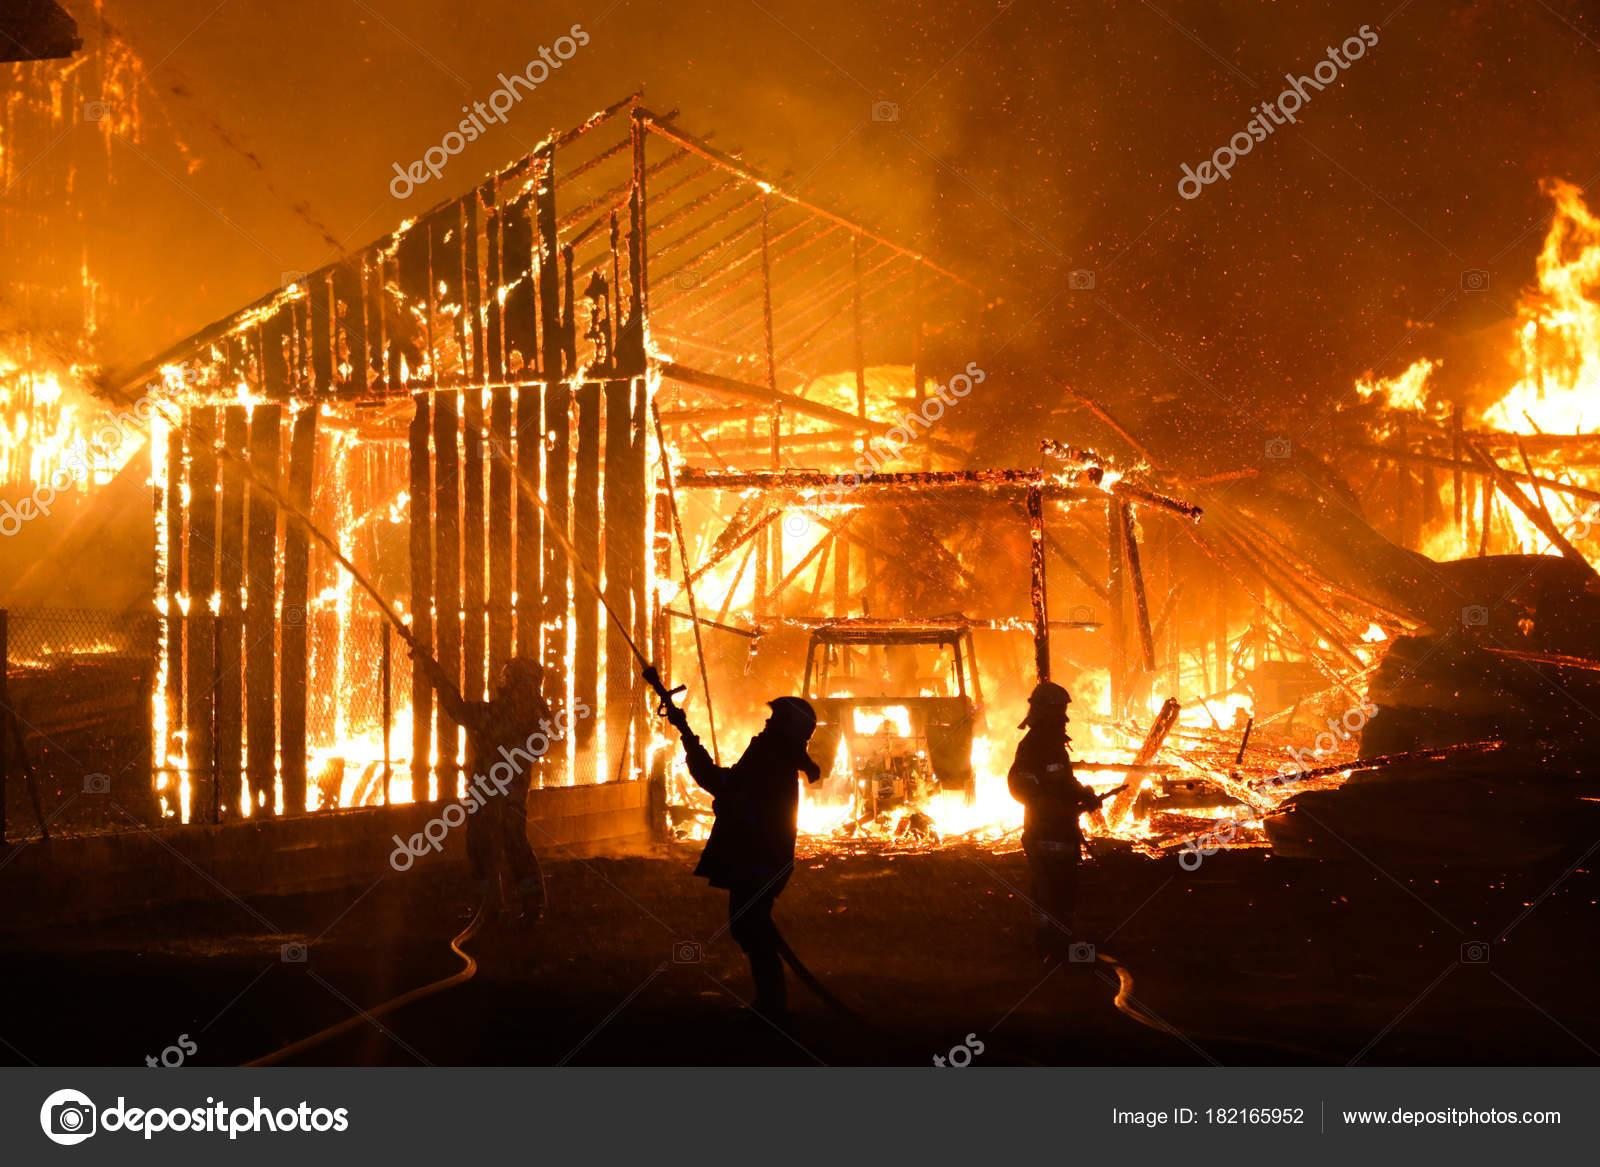Fire: (2, 194, 1588, 863)
